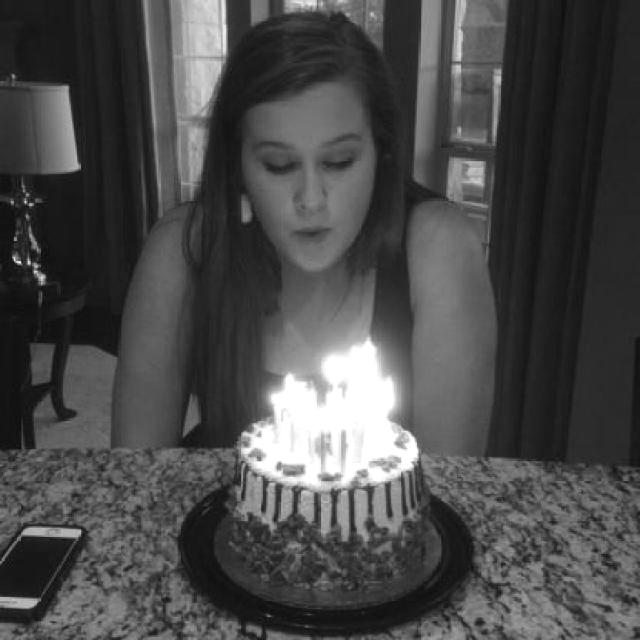fake: (0, 524, 91, 624)
